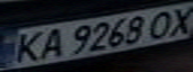2: (87, 18, 115, 53)
6: (106, 16, 133, 48)
8: (124, 12, 154, 45)
9: (66, 21, 93, 56)
A: (33, 25, 69, 61)
K: (6, 29, 51, 64)
O: (142, 8, 181, 39)
X: (160, 3, 193, 36)
